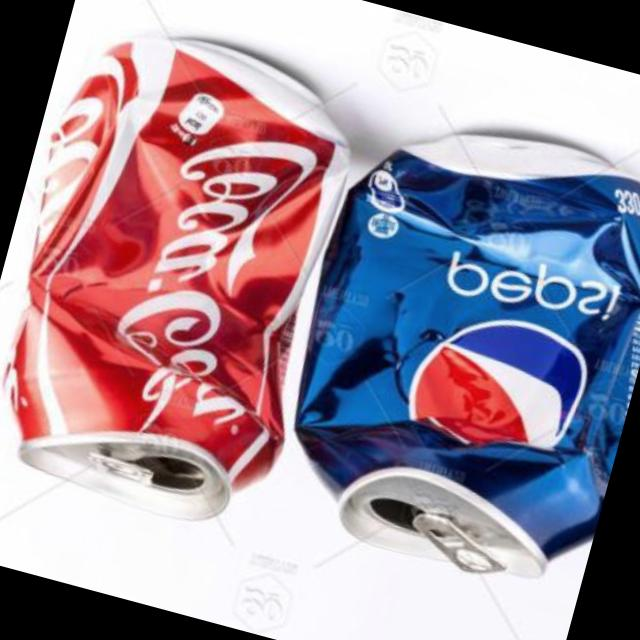metal: (3, 40, 344, 521), (293, 137, 640, 579)
